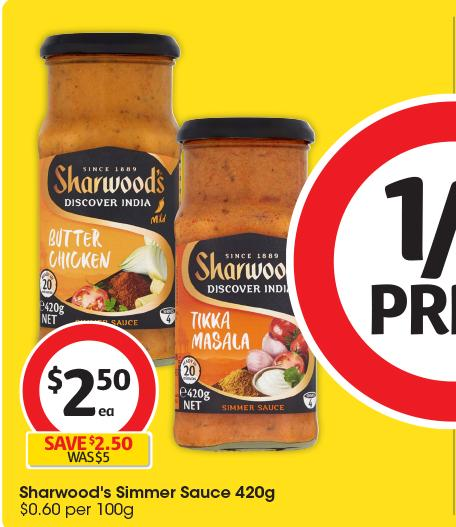description_block: (12, 479, 297, 505)
price_main: (15, 331, 154, 431)
product_image_block: (162, 29, 324, 455)
promo_text_block: (26, 433, 157, 472)
unit_price_block: (16, 500, 147, 521)
